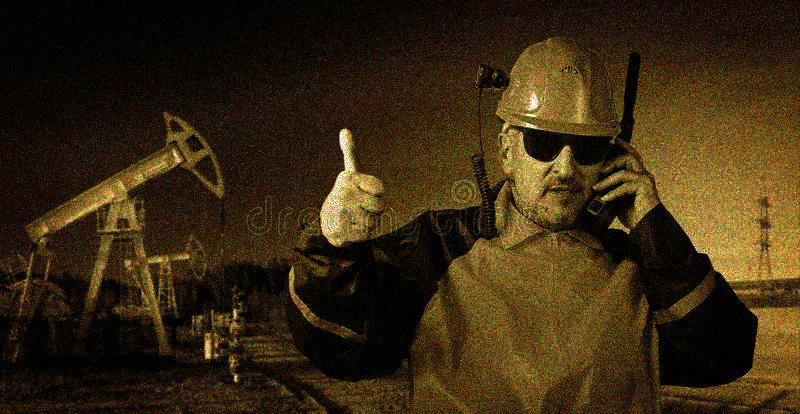helmet: (491, 37, 622, 227)
